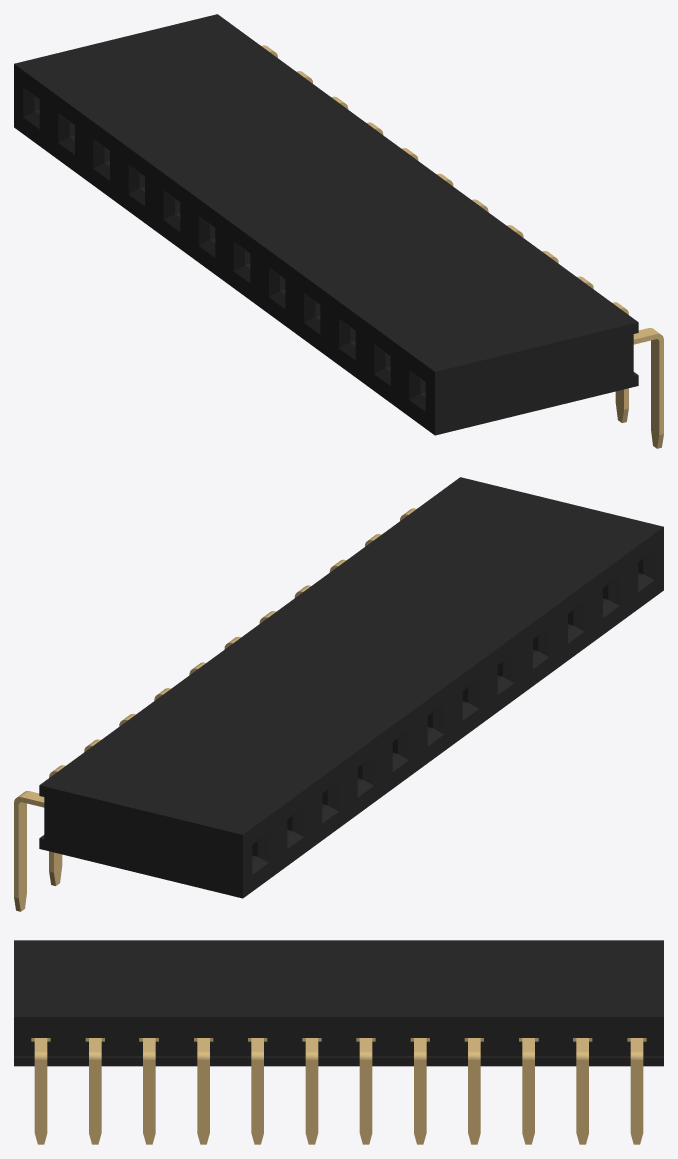
File: kc-pinsocket_1x12_p2.54mm_horizontal.glb
3 renders of one model, top to bottom at view 1: azimuth 30°, elevation 25°; view 2: azimuth 150°, elevation 25°; view 3: azimuth 270°, elevation 25°, orthographic. The views are drawn at different scales.
Visible parts, largest first — view 1: 0_0_0_0, 0.75_0.5_0.25_0.9; view 2: 0_0_0_0, 0.75_0.5_0.25_0.9; view 3: 0_0_0_0, 0.75_0.5_0.25_0.9.
Part boxes in pixels (box(x1,y1,x2,y2)): 0_0_0_0: box(14, 14, 638, 435); 0.75_0.5_0.25_0.9: box(261, 45, 663, 448); 0_0_0_0: box(39, 477, 663, 898); 0.75_0.5_0.25_0.9: box(14, 508, 416, 911); 0_0_0_0: box(14, 940, 663, 1066); 0.75_0.5_0.25_0.9: box(31, 1038, 646, 1144).
Size of the model in its own units: 1.01 by 0.584 by 3.05.
